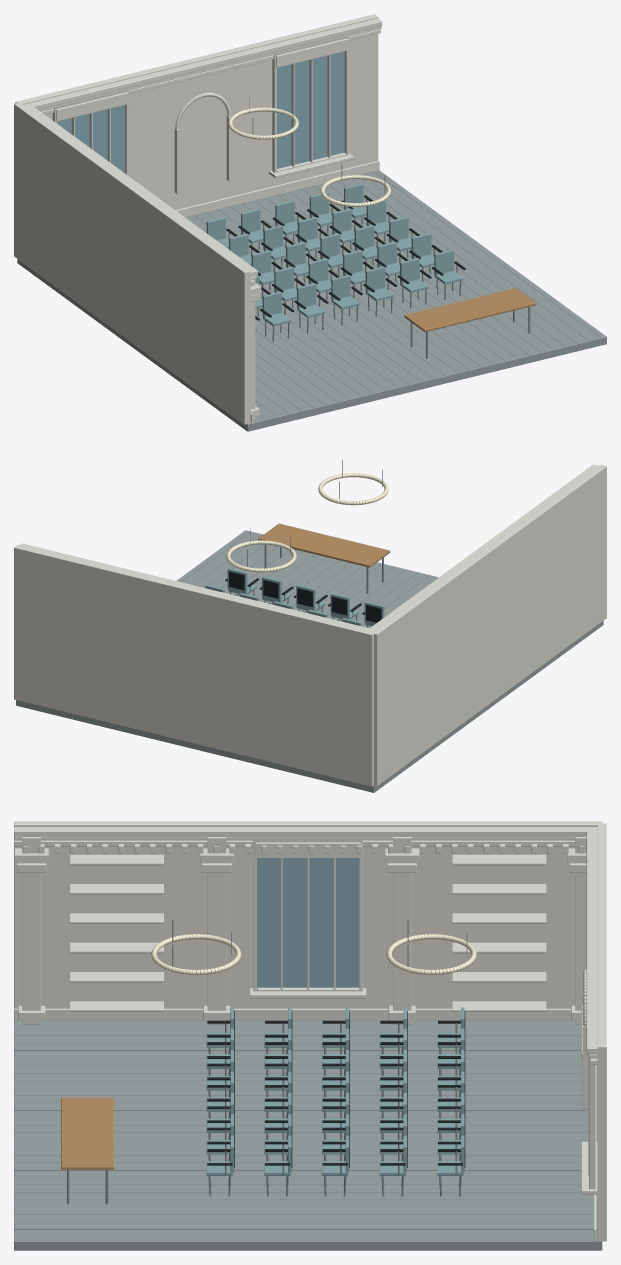
File: cow-interior-760673784fcb.glb
3 views of the same model, one above another, from view 1: azimuth 30°, elevation 25°; view 2: azimuth 150°, elevation 25°; view 3: azimuth 270°, elevation 25° (orthographic). The views are drawn at different scales.
Parts seen in each view (by area): view 1: COW.001; view 2: COW.001; view 3: COW.001.
Boxes of the visible parts, bbox=[...] form: COW.001: bbox=[14, 14, 606, 431]; COW.001: bbox=[14, 460, 606, 792]; COW.001: bbox=[14, 821, 606, 1250].
Size of the model in its own units: 9.08 by 3.88 by 10.08.
